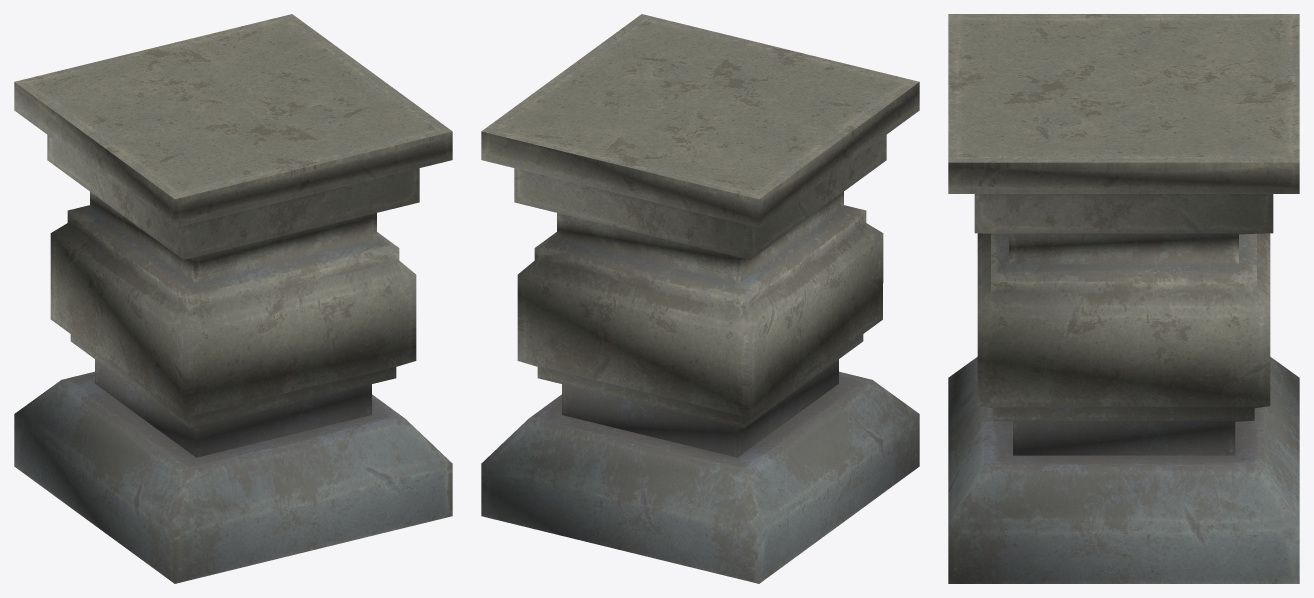
File: AD_Pillar_F_01.fbx
The picture shows the model from 3 angles, left to right: view 1: azimuth 30°, elevation 25°; view 2: azimuth 150°, elevation 25°; view 3: azimuth 270°, elevation 25°; orthographic projection. The views are drawn at different scales.
Parts seen in each view (by area): view 1: AD_Pillar_F_01; view 2: AD_Pillar_F_01; view 3: AD_Pillar_F_01.
Boxes of the visible parts, x1=… form: AD_Pillar_F_01: x1=14, y1=14, x2=452, y2=583; AD_Pillar_F_01: x1=481, y1=14, x2=919, y2=583; AD_Pillar_F_01: x1=948, y1=14, x2=1299, y2=583.
Bounding box in the file's own units: 159 × 211 × 159.
Materials: 1 (1 with a texture image).
